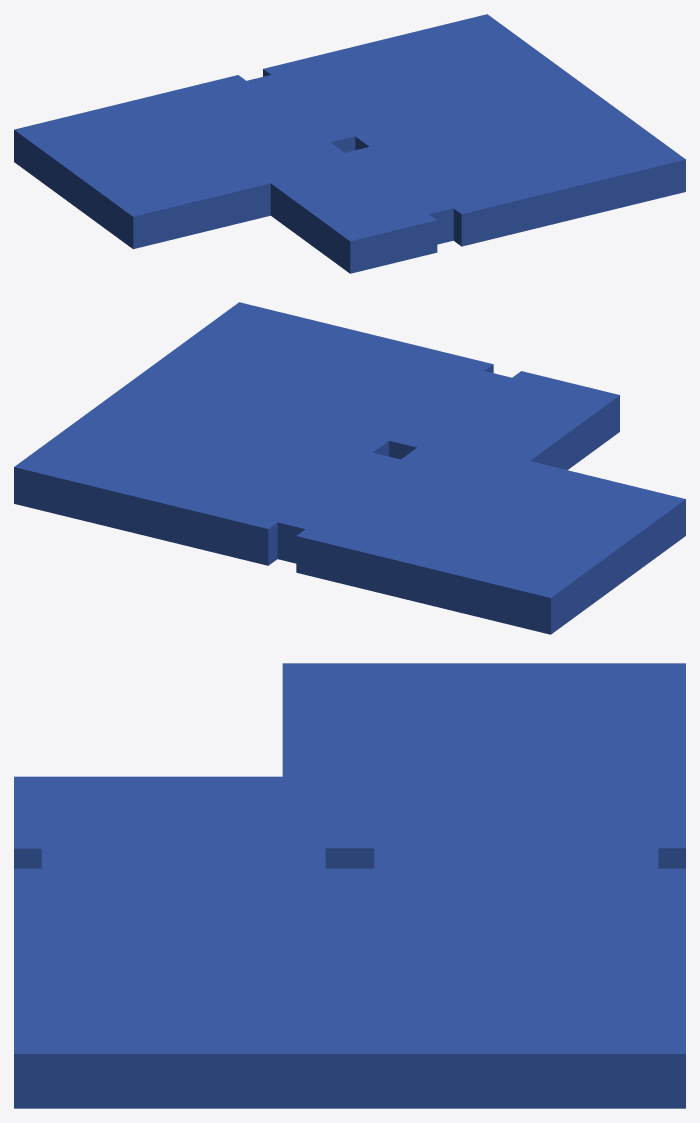
Rendered from artemis-arena-dummy-surface.dae.
The picture shows the model from 3 angles, top to bottom: view 1: azimuth 30°, elevation 25°; view 2: azimuth 150°, elevation 25°; view 3: azimuth 270°, elevation 25°; orthographic projection. The views are drawn at different scales.
Parts seen in each view (by area): view 1: ID2; view 2: ID2; view 3: ID2.
Boxes of the visible parts, <box> form: ID2: <box>14,14,685,273</box>; ID2: <box>14,302,685,634</box>; ID2: <box>14,663,685,1108</box>.
Bounding box in the file's own units: 6.88 × 5 × 0.45.
